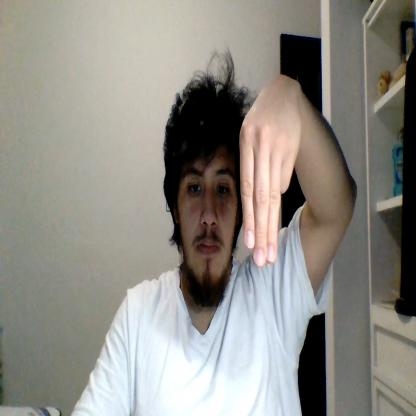M: (240, 76, 301, 266)
